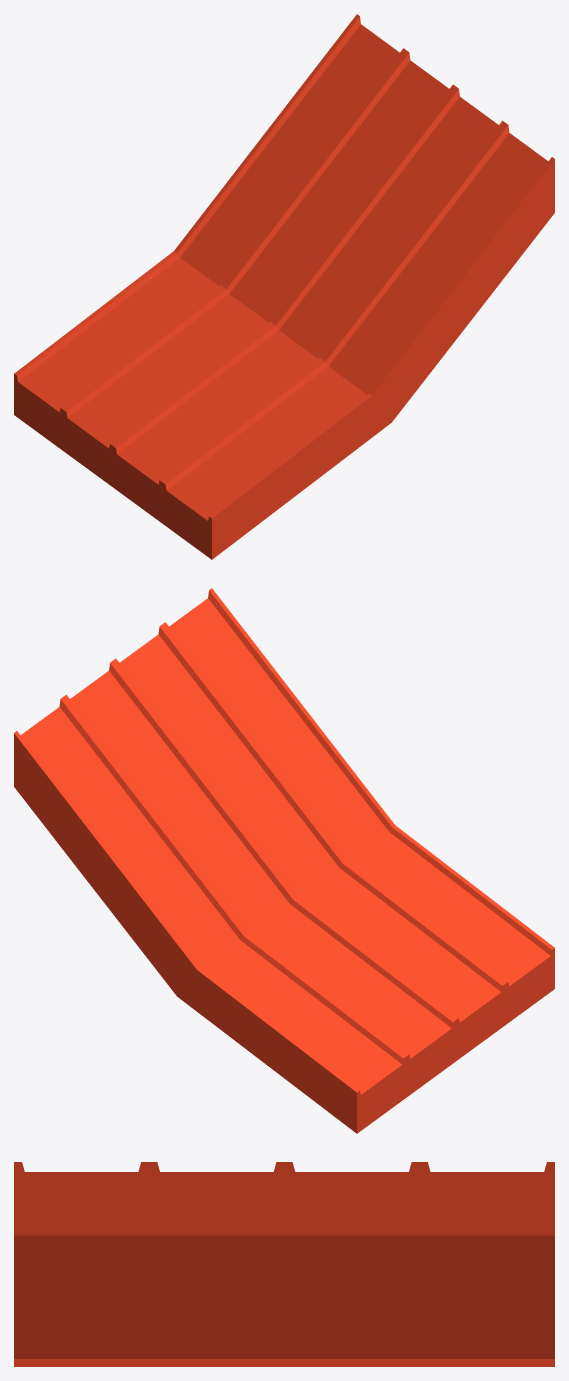
The model's file is roof-metal-moderate-regular-2x2m.fbx.
The picture shows the model from 3 angles, top to bottom: view 1: azimuth 30°, elevation 25°; view 2: azimuth 150°, elevation 25°; view 3: azimuth 270°, elevation 25°; orthographic projection. The views are drawn at different scales.
Parts seen in each view (by area): view 1: roof-metal-moderate-regular-2x2m; view 2: roof-metal-moderate-regular-2x2m; view 3: roof-metal-moderate-regular-2x2m.
Boxes of the visible parts, x1,y1,x2,y2 form: roof-metal-moderate-regular-2x2m: (14, 14, 554, 559); roof-metal-moderate-regular-2x2m: (14, 588, 554, 1133); roof-metal-moderate-regular-2x2m: (14, 1162, 554, 1366).
Size of the model in its own units: 2 by 1.77 by 2.
